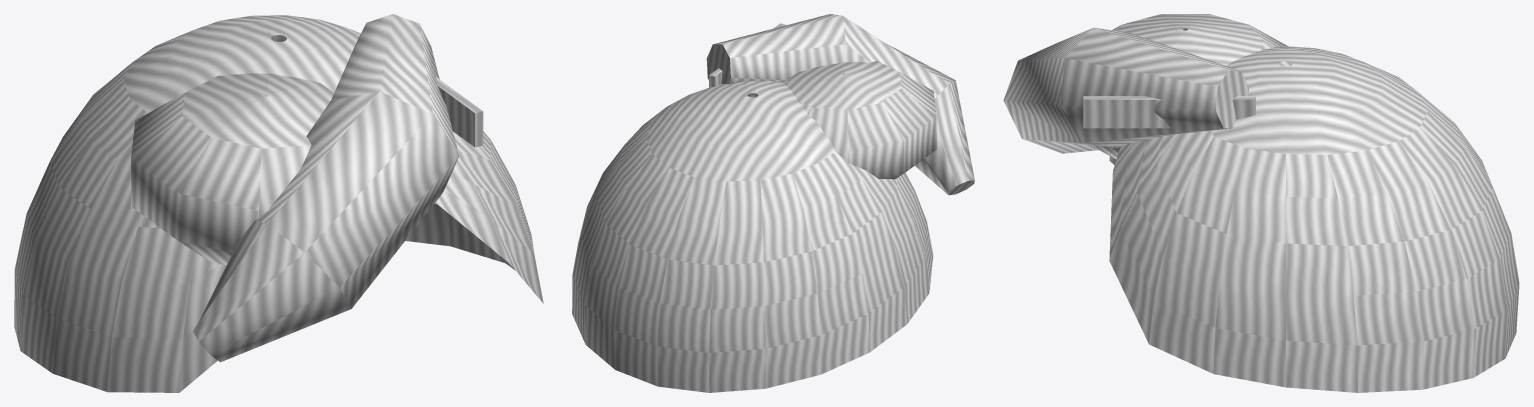
The model's file is hair_sidepart.glb.
3 renders of one model, left to right at view 1: azimuth 30°, elevation 25°; view 2: azimuth 150°, elevation 25°; view 3: azimuth 270°, elevation 25°, orthographic. The views are drawn at different scales.
Visible parts, largest first — view 1: hair_sidepart; view 2: hair_sidepart; view 3: hair_sidepart.
Part boxes in pixels (x1=…): hair_sidepart: x1=14, y1=14, x2=543, y2=392; hair_sidepart: x1=572, y1=14, x2=974, y2=392; hair_sidepart: x1=1003, y1=14, x2=1519, y2=392.
Bounding box in the file's own units: 0.276 × 0.2102 × 0.3287.
1 material, 1 textured.
